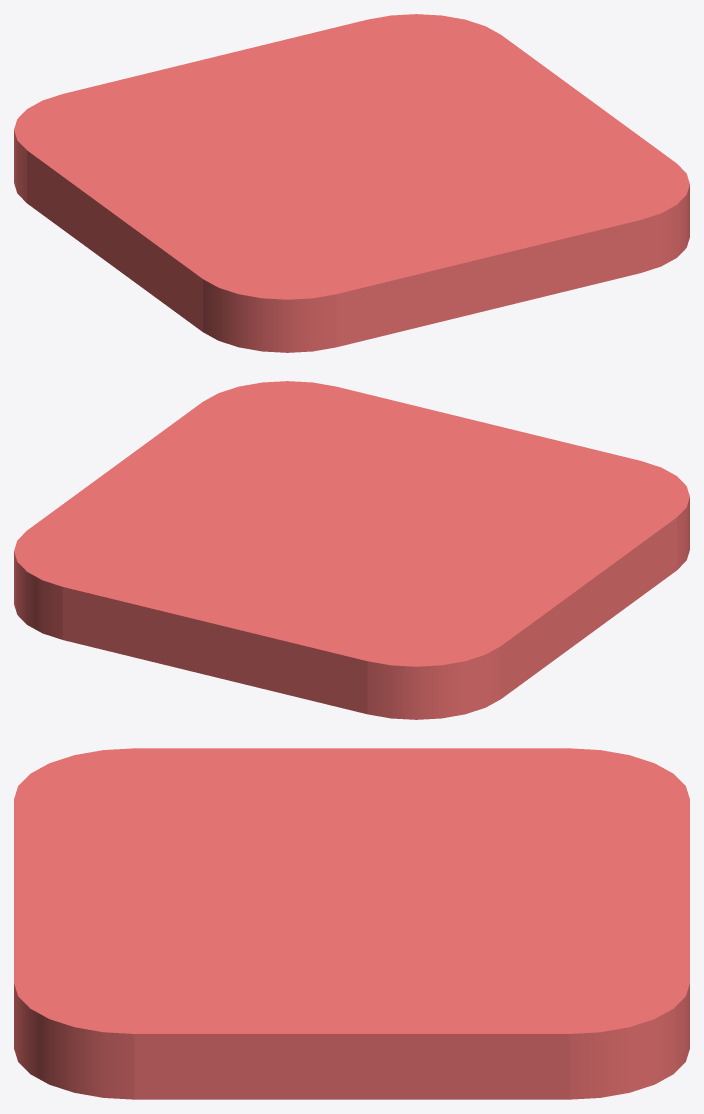
The model's file is purchase-tile.fbx.
3 views of the same model, one above another, from view 1: azimuth 30°, elevation 25°; view 2: azimuth 150°, elevation 25°; view 3: azimuth 270°, elevation 25° (orthographic). The views are drawn at different scales.
Visible parts, largest first — view 1: SketchUp; view 2: SketchUp; view 3: SketchUp.
Part boxes in pixels (x1,y1,x2,y2): SketchUp: [14, 14, 689, 352]; SketchUp: [14, 381, 689, 719]; SketchUp: [14, 748, 689, 1099].
Bounding box in the file's own units: 280 × 30 × 280.
